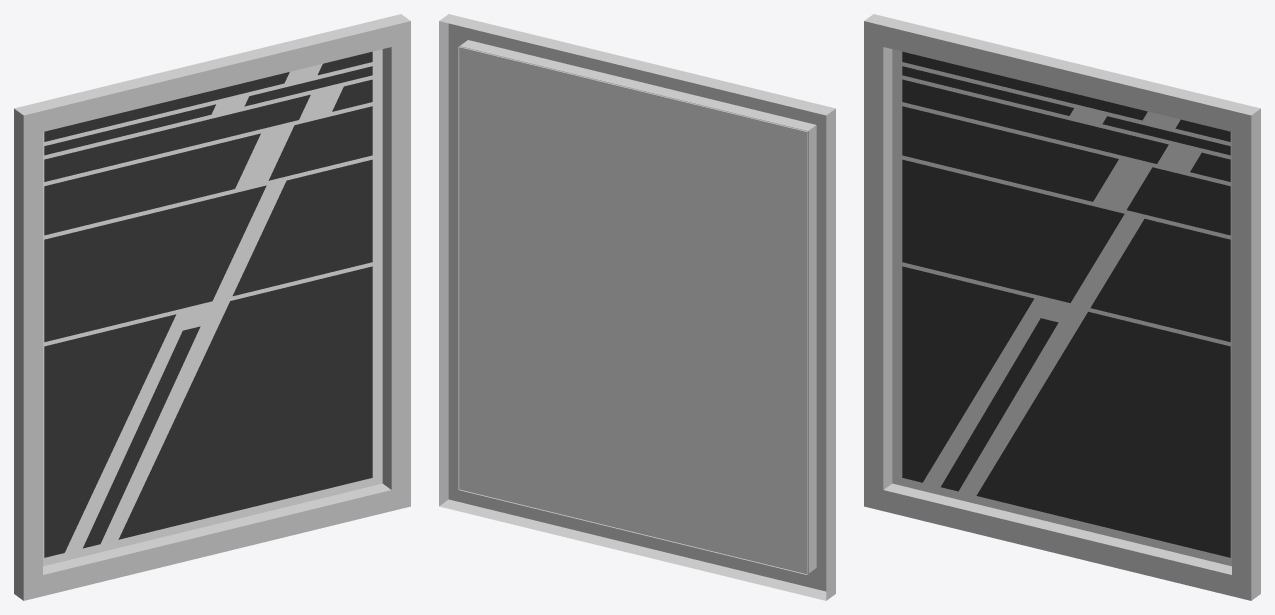
File: picture_012.glb
3 views of the same model, side by side, from view 1: azimuth 30°, elevation 25°; view 2: azimuth 150°, elevation 25°; view 3: azimuth 330°, elevation 25° (orthographic).
Parts seen in each view (by area): view 1: picture_012; view 2: picture_012; view 3: picture_012.
Boxes of the visible parts, <box> form: picture_012: <box>14,14,410,600</box>; picture_012: <box>439,14,835,600</box>; picture_012: <box>864,14,1260,600</box>.
Bounding box in the file's own units: 0.4535 × 0.5433 × 0.0196.
1 material, 1 textured.
